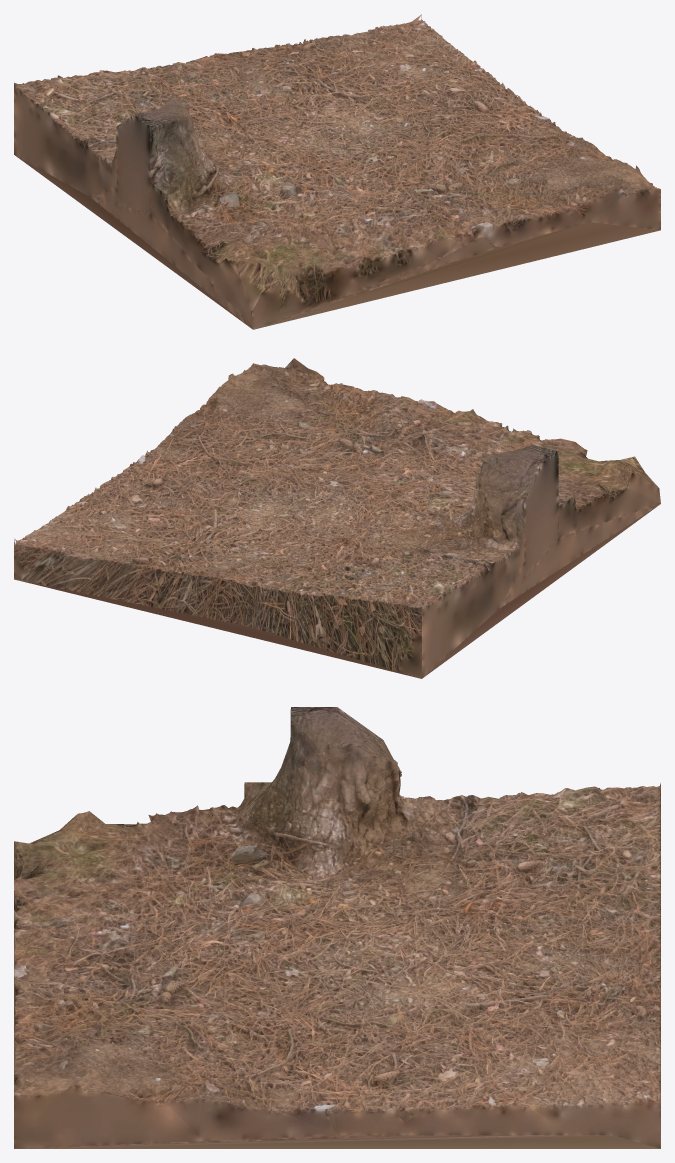
File: sf-forest-pine-tree-needles-ground-soil-fre-c9f8f4.glb
3 renders of one model, top to bottom at view 1: azimuth 30°, elevation 25°; view 2: azimuth 150°, elevation 25°; view 3: azimuth 270°, elevation 25°, orthographic. The views are drawn at different scales.
Parts seen in each view (by area): view 1: meshNode_Material_u1_v1_0; view 2: meshNode_Material_u1_v1_0; view 3: meshNode_Material_u1_v1_0.
Part boxes in pixels (box(x1,y1,x2,y2)): meshNode_Material_u1_v1_0: box(14, 14, 660, 329); meshNode_Material_u1_v1_0: box(14, 358, 660, 678); meshNode_Material_u1_v1_0: box(14, 707, 660, 1148).
Size of the model in its own units: 1.12 by 0.334 by 1.14.
1 material, 1 textured.
